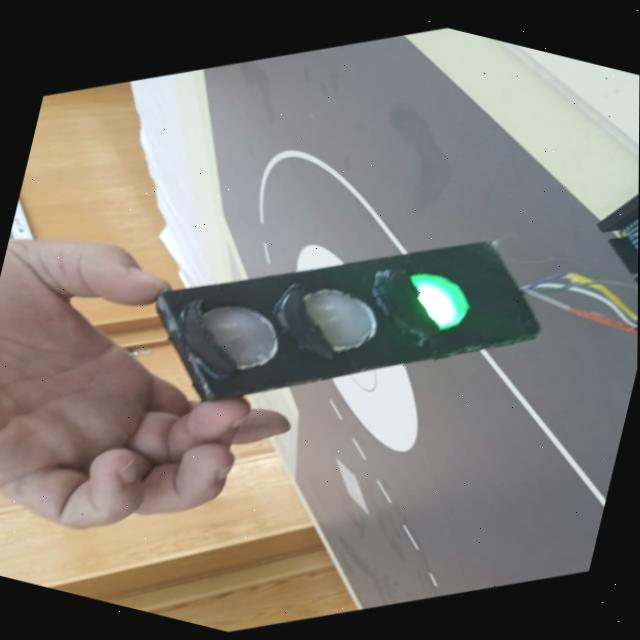green: (408, 273, 469, 330)
trafic lights: (156, 241, 539, 400)
